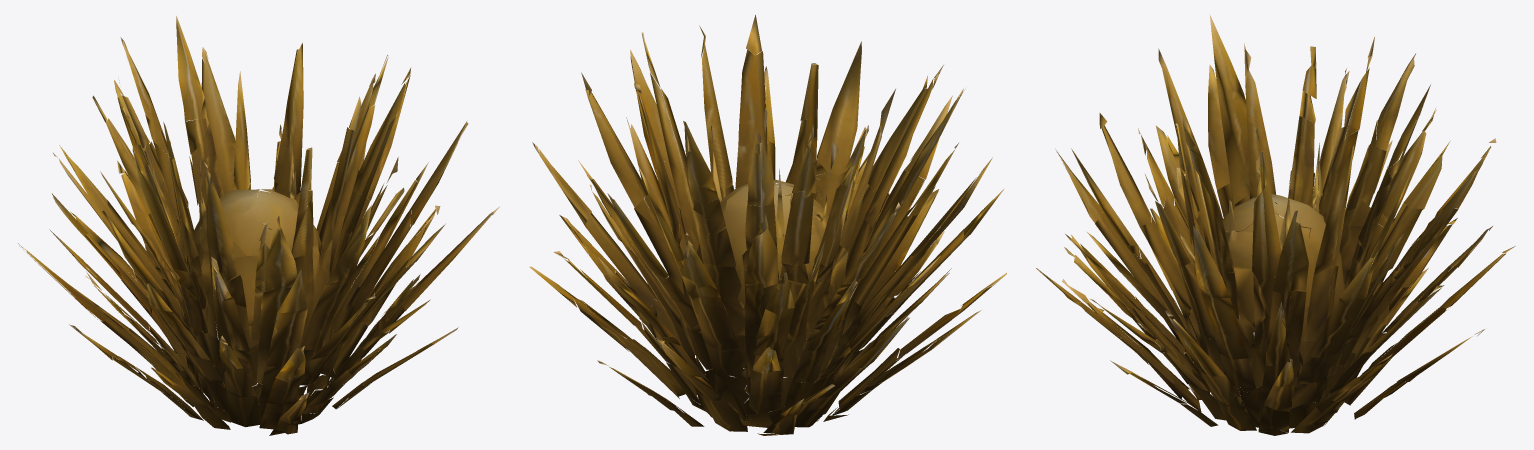
Rendered from desert_grass_blades_low.glb.
The picture shows the model from 3 angles, left to right: view 1: azimuth 30°, elevation 25°; view 2: azimuth 150°, elevation 25°; view 3: azimuth 270°, elevation 25°; orthographic projection. The views are drawn at different scales.
Parts seen in each view (by area): view 1: desert_grass_blades_low; view 2: desert_grass_blades_low; view 3: desert_grass_blades_low.
Part boxes in pixels (left/top/right/bottom): desert_grass_blades_low: left=18, top=16, right=499, bottom=435; desert_grass_blades_low: left=529, top=15, right=1006, bottom=435; desert_grass_blades_low: left=1036, top=14, right=1515, bottom=435.
Size of the model in its own units: 0.8091 by 0.649 by 0.878.
Materials: 1 (1 with a texture image).
